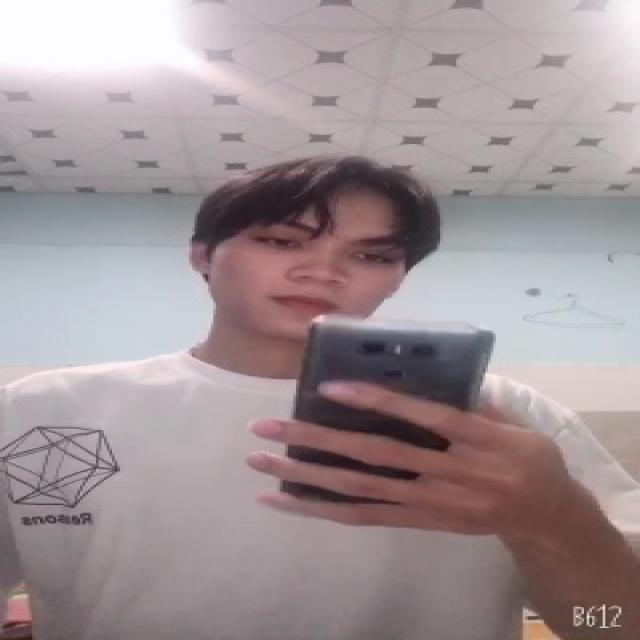Phone: (284, 318, 495, 508)
